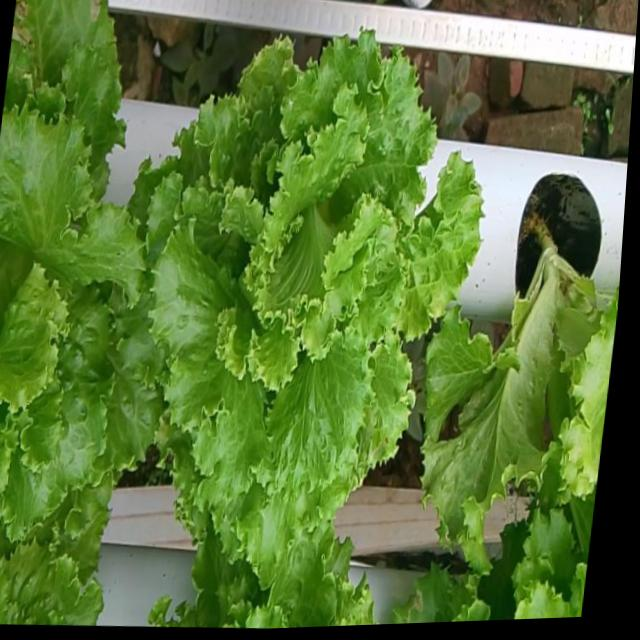Mature: (157, 9, 490, 548), (0, 80, 172, 524)
